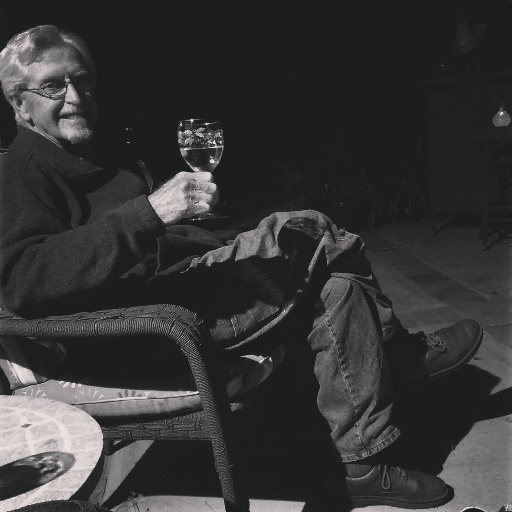hand: (149, 161, 219, 234)
